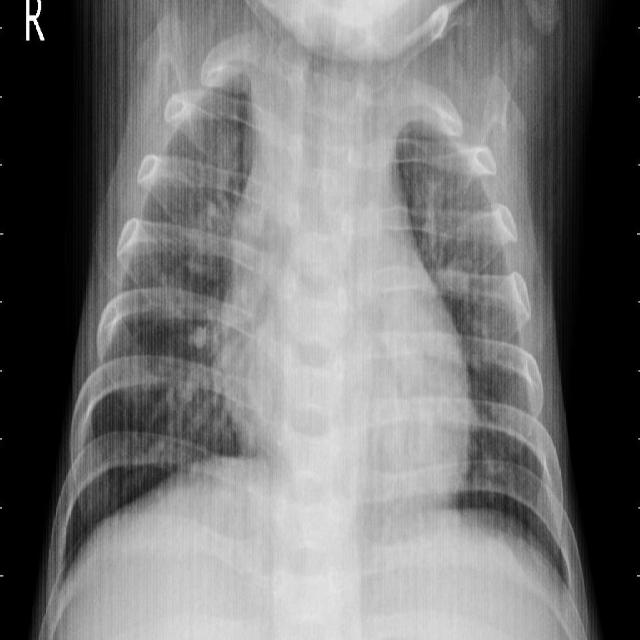viral_pneumonia: (2, 7, 640, 640)
